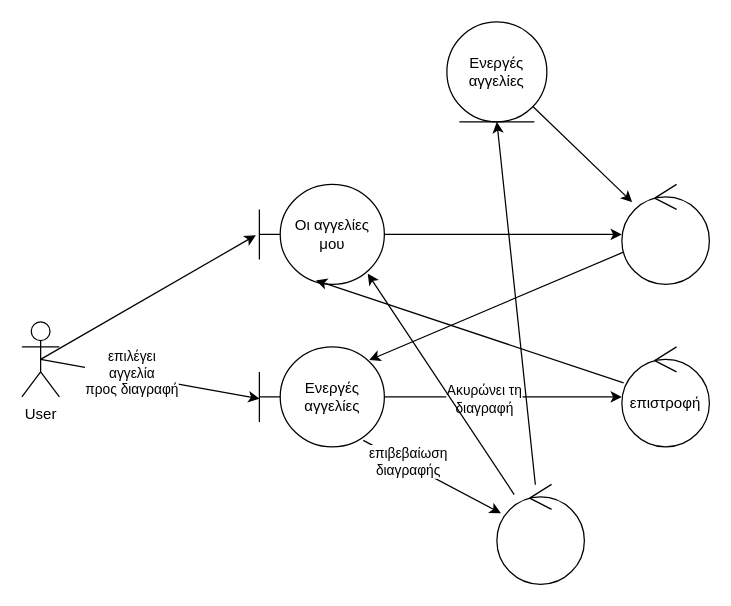
Some shapes in this 731 by 606 pixel diagram are drawn without their labels. Here are the shapes that lost their labels. From the top down, the box of each, then its label:
(621, 183, 709, 284): εμφανίζει λίστα ενεργών αγγελιών
(496, 483, 584, 584): εμφάμιση μηνύματος διαγραφής
